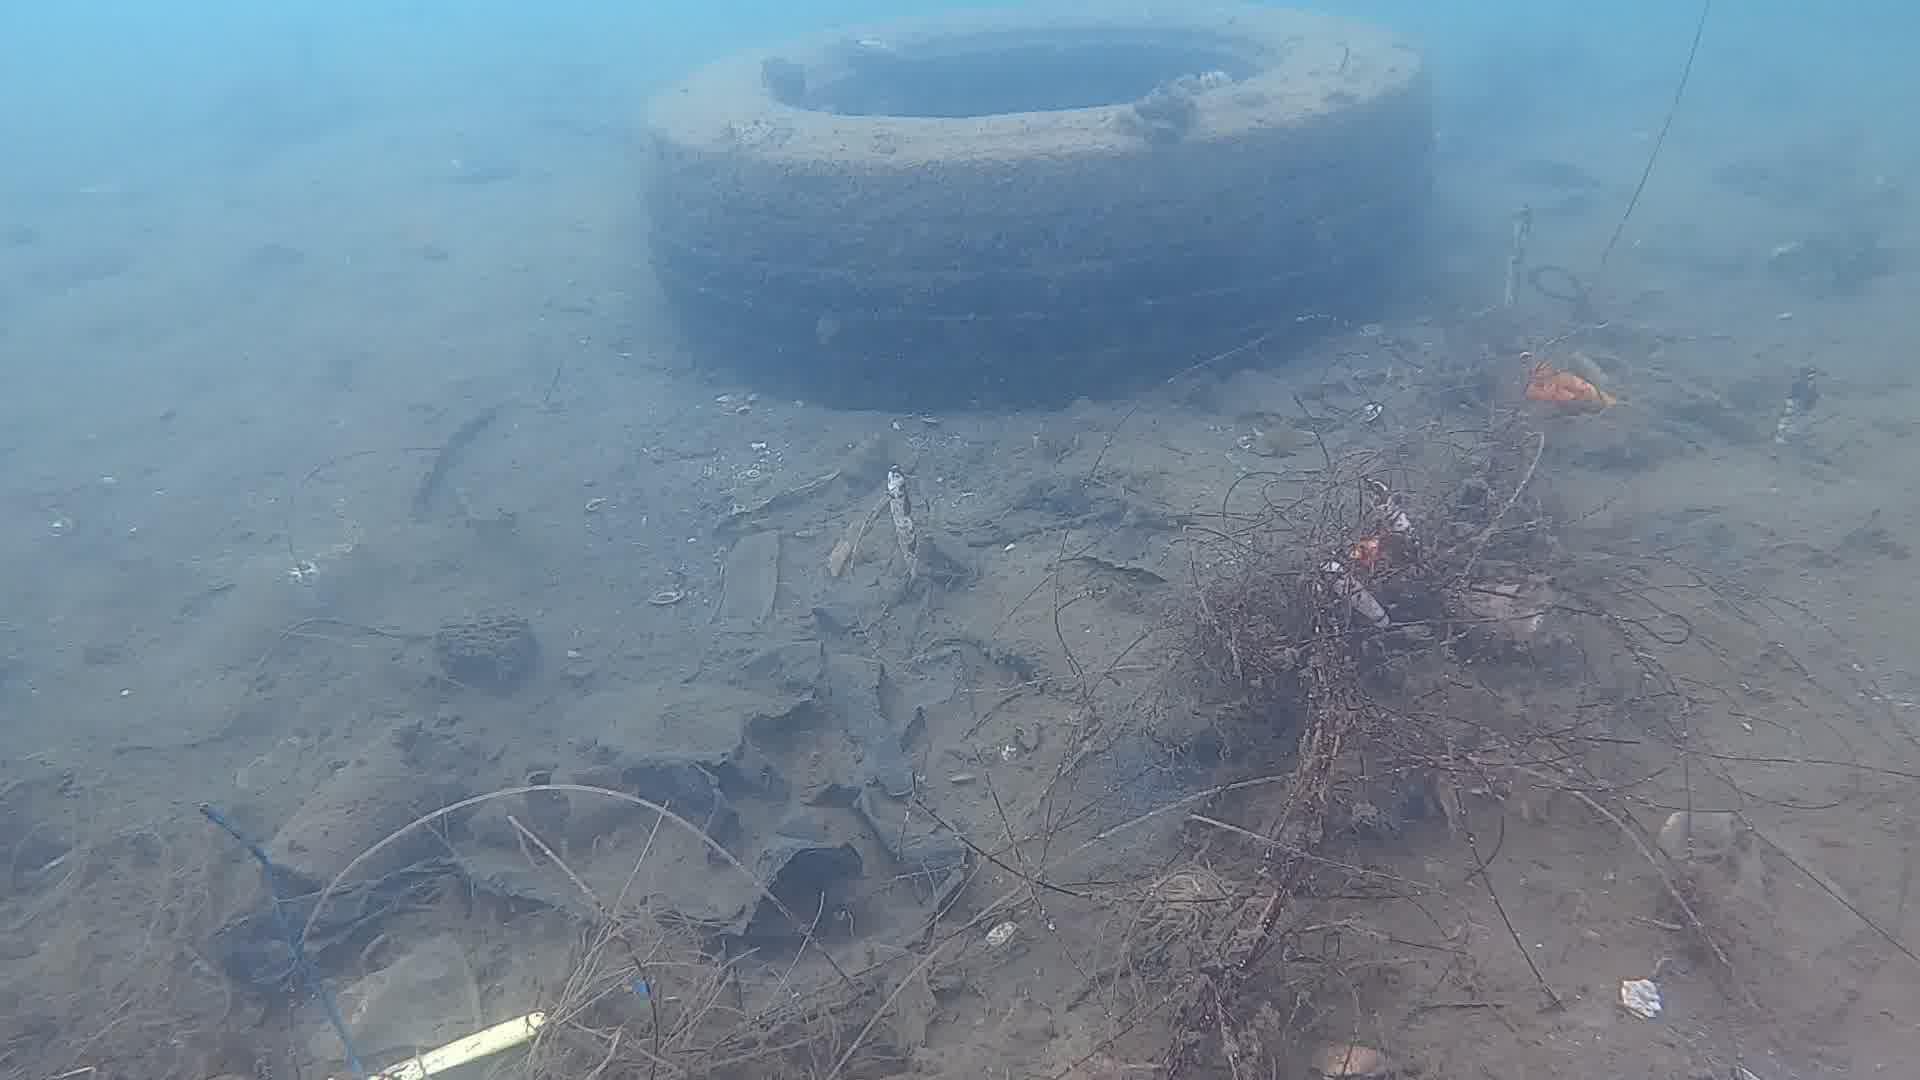tire: (632, 3, 1435, 402)
